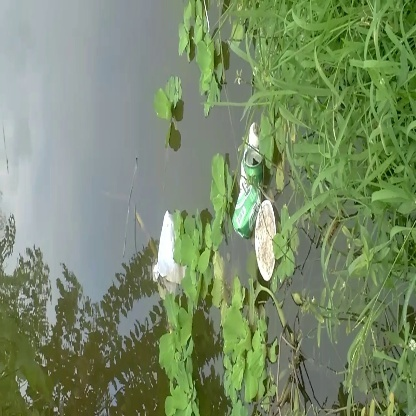bottle: (230, 145, 267, 244)
